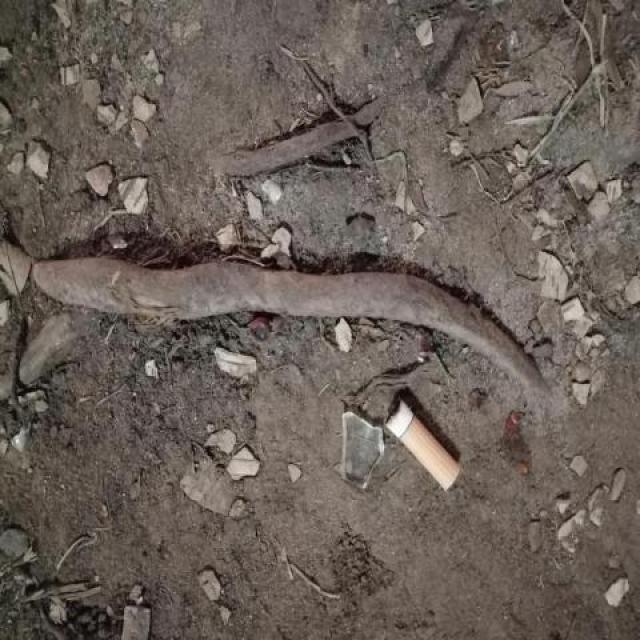non-organic waste: (385, 394, 466, 502)
